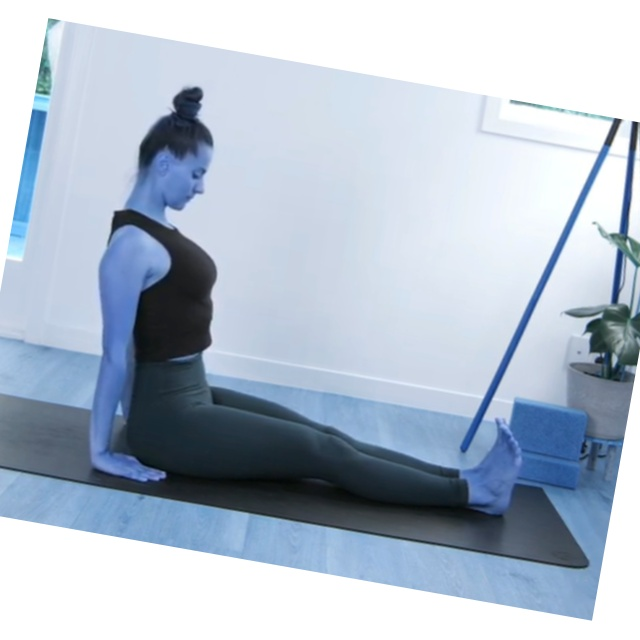Staff_Pose: (82, 106, 525, 520)
